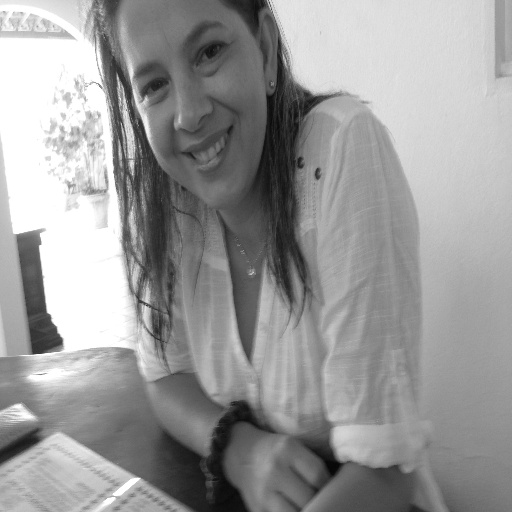hand: (231, 423, 331, 511)
